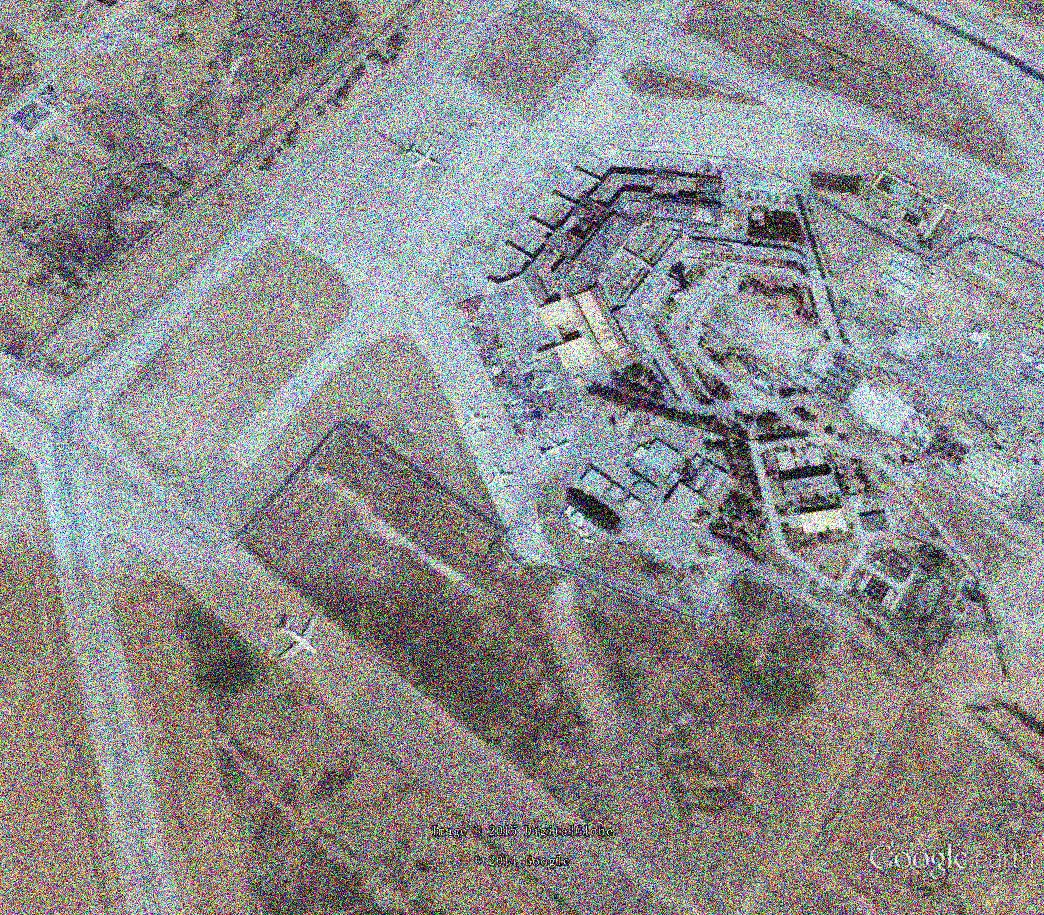aircraft: (271, 611, 323, 664), (485, 460, 520, 497), (403, 142, 444, 171), (462, 404, 493, 438), (537, 436, 576, 463), (315, 352, 337, 372)
